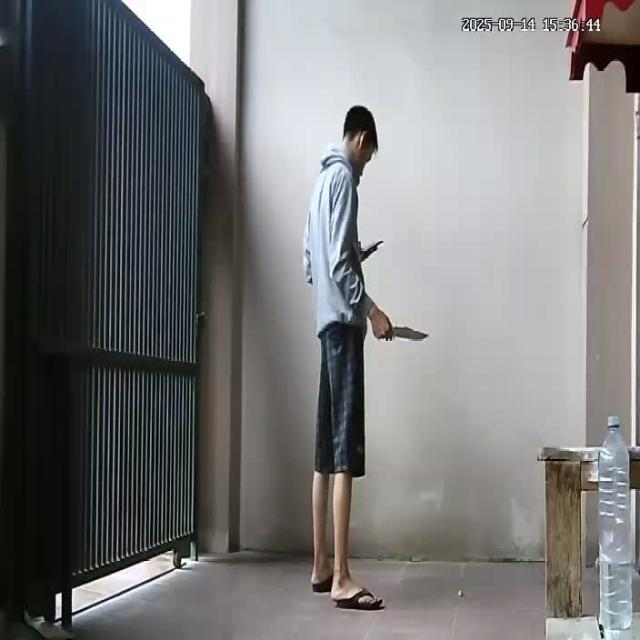senjata_tajam: (390, 325, 433, 342)
